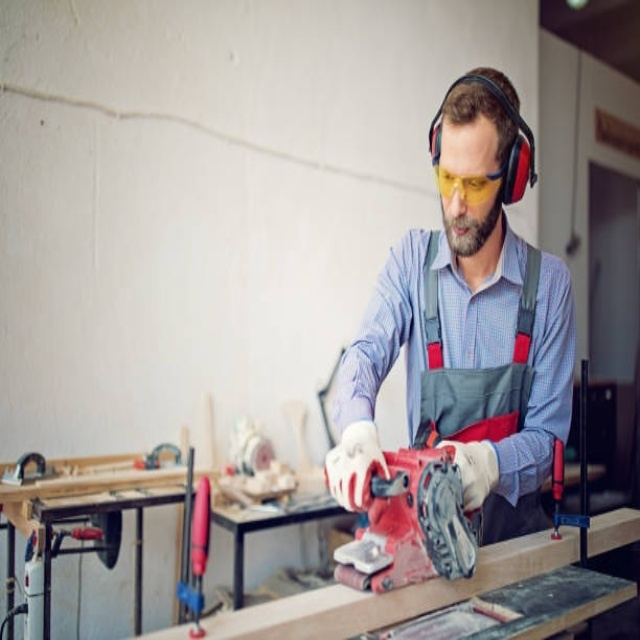Gafas: (433, 158, 507, 206)
Guantes: (323, 419, 392, 518), (442, 438, 500, 510)
Sin_mascara: (444, 215, 478, 253)
